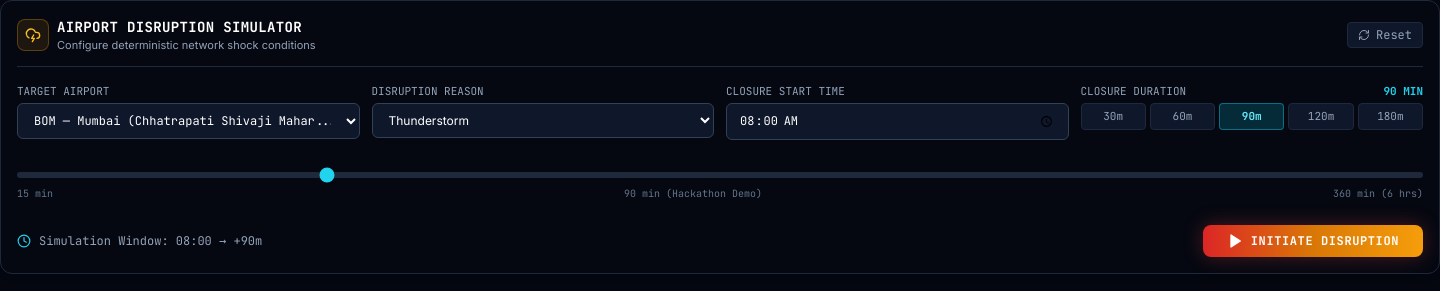
Test: DisruptionControlPanel Component › allows user to change target airport and duration preset
The width and height of the screenshot is (1440, 291).
Note: Select DEL airport
Select "DEL — Delhi (Indira Gandhi Internation...)" in the dropdown named "Select target airport". click: [188, 121]
box: [17,103,360,139]
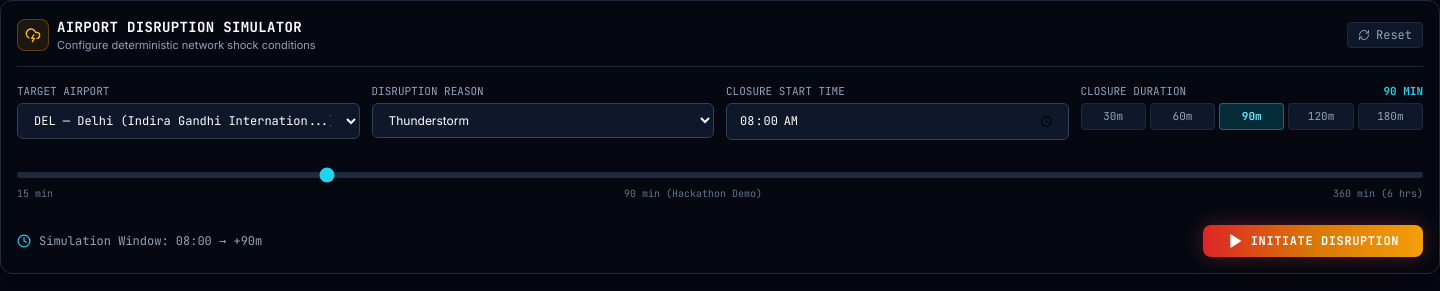
Note: Click 120m duration preset
Click the button "120m". click: [1321, 116]
box: [1288,103,1354,130]
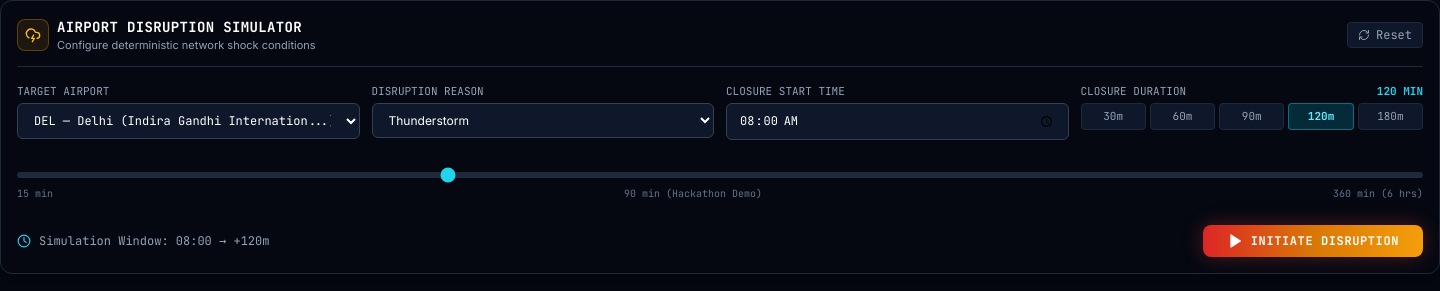
Result: the text "120 MIN" is shown at [1377,82,1423,99]
